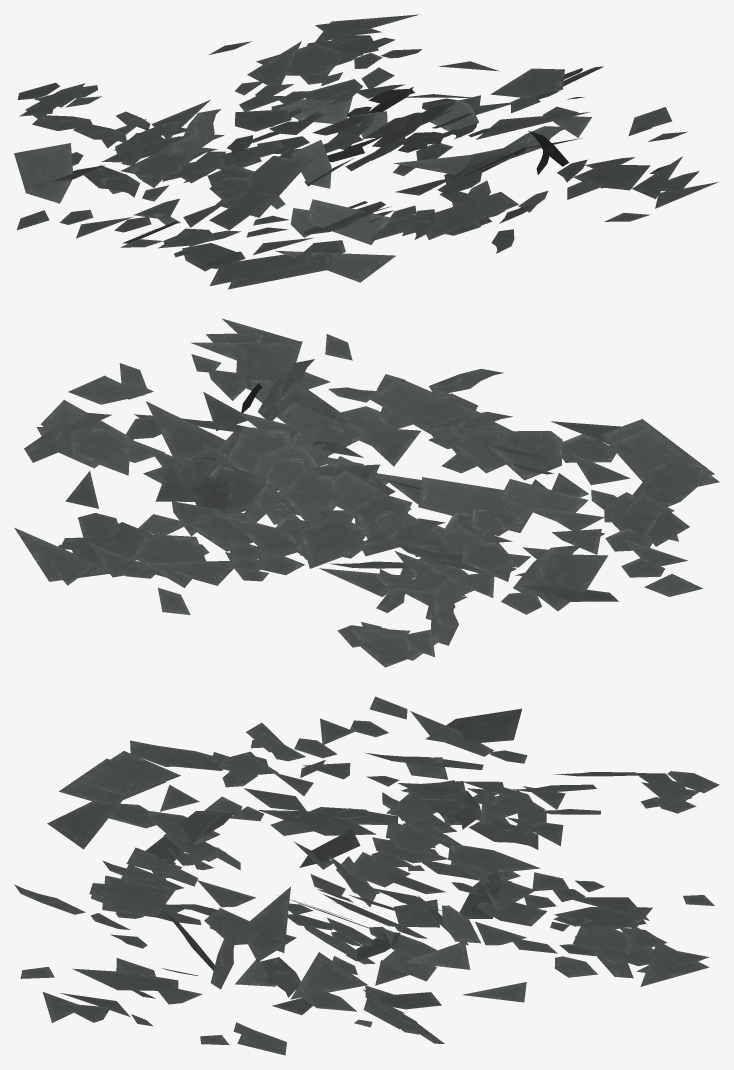
The model's file is Ice_Stacks_002.fbx.
The picture shows the model from 3 angles, top to bottom: view 1: azimuth 30°, elevation 25°; view 2: azimuth 150°, elevation 25°; view 3: azimuth 270°, elevation 25°; orthographic projection. The views are drawn at different scales.
Parts seen in each view (by area): view 1: Ice_Stacks_002_LOD0; view 2: Ice_Stacks_002_LOD0; view 3: Ice_Stacks_002_LOD0.
Part boxes in pixels (x1,y1,x2,y2): Ice_Stacks_002_LOD0: (14,14,718,289); Ice_Stacks_002_LOD0: (14,318,719,667); Ice_Stacks_002_LOD0: (14,696,719,1055).
Size of what is drawn, in the model's own units: 27.18 by 2.01 by 22.48.
